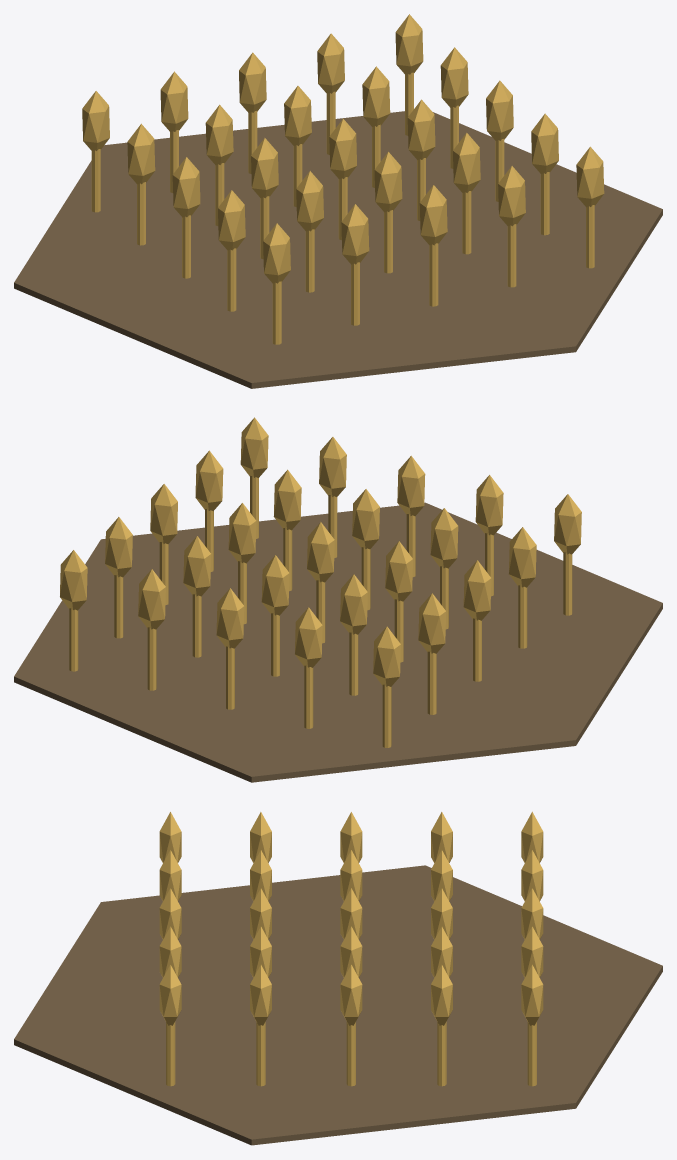
Rendered from barleyField.glb.
The picture shows the model from 3 angles, top to bottom: view 1: azimuth 30°, elevation 25°; view 2: azimuth 150°, elevation 25°; view 3: azimuth 270°, elevation 25°; orthographic projection.
Parts seen in each view (by area): view 1: Cone.183, Icosphere.126, Icosphere.130, Icosphere.132, Icosphere.133, Icosphere.141, Icosphere.145, Icosphere.129, Icosphere.131, Icosphere.136, Icosphere.144, Icosphere.146 (+27 smaller); view 2: Cone.183, Icosphere.149, Icosphere.130, Icosphere.137, Icosphere.145, Icosphere.126, Icosphere.132, Icosphere.133, Icosphere.134, Icosphere.138, Icosphere.140, Icosphere.141 (+27 smaller); view 3: Cone.183, Icosphere.146, Icosphere.148, Icosphere.150, Icosphere.147, Icosphere.149, Icosphere.136, Icosphere.138, Icosphere.140, Icosphere.141, Icosphere.126, Icosphere.130 (+19 smaller).
Boxes of the visible parts, x1,y1,x2,y2 form: Cone.183: [14, 111, 662, 388]; Icosphere.126: [263, 223, 290, 283]; Icosphere.130: [82, 91, 109, 151]; Icosphere.132: [296, 171, 323, 231]; Icosphere.133: [251, 138, 278, 198]; Icosphere.141: [498, 166, 525, 226]; Icosphere.145: [317, 33, 344, 93]; Icosphere.129: [127, 123, 155, 184]; Icosphere.131: [341, 204, 369, 264]; Icosphere.136: [419, 185, 447, 245]; Icosphere.144: [362, 66, 390, 126]; Icosphere.146: [576, 146, 604, 207]; Cone.183: [14, 502, 662, 782]; Icosphere.149: [105, 517, 132, 577]; Icosphere.130: [373, 626, 400, 686]; Icosphere.137: [352, 489, 379, 549]; Icosphere.145: [138, 569, 165, 629]; Icosphere.126: [554, 494, 581, 554]; Icosphere.132: [430, 508, 458, 568]; Icosphere.133: [385, 541, 412, 601]; Icosphere.134: [340, 574, 367, 634]; Icosphere.138: [307, 522, 334, 582]; Icosphere.140: [216, 588, 244, 648]; Icosphere.141: [319, 437, 346, 496]; Cone.183: [14, 865, 662, 1145]; Icosphere.146: [159, 964, 181, 1025]; Icosphere.148: [340, 965, 362, 1025]; Icosphere.150: [521, 964, 543, 1025]; Icosphere.147: [250, 965, 271, 1025]; Icosphere.149: [431, 964, 452, 1025]; Icosphere.136: [159, 888, 181, 939]; Icosphere.138: [340, 888, 362, 939]; Icosphere.140: [521, 888, 543, 939]; Icosphere.141: [159, 926, 181, 977]; Icosphere.126: [159, 812, 181, 862]; Icosphere.130: [521, 811, 543, 862].
Bounding box in the file's own units: 2.51 × 0.54 × 2.51.
